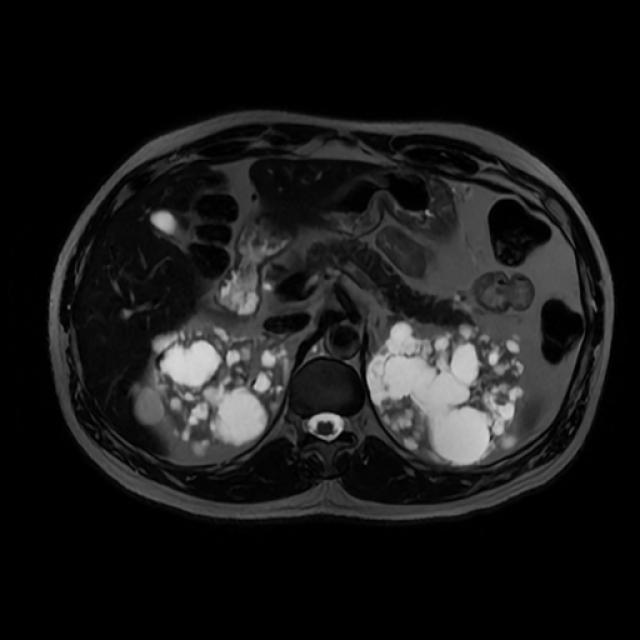sag: (132, 324, 289, 458)
sol: (368, 323, 523, 462)
